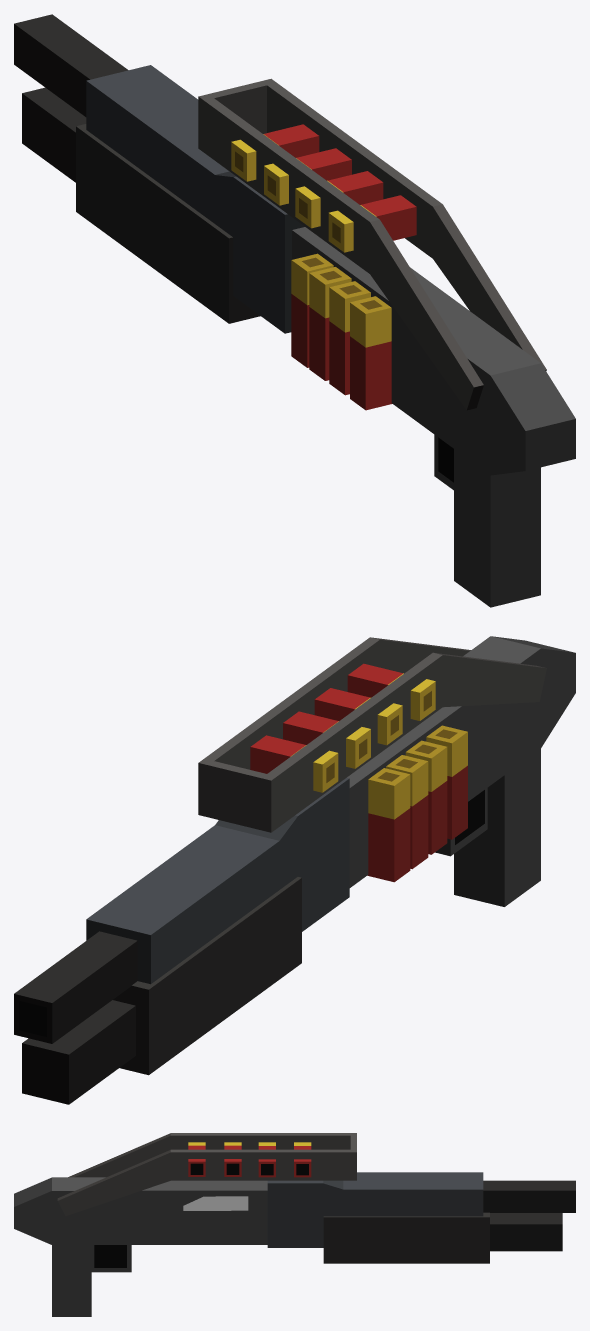
Rendered from Wep_Shotgun.fbx.
3 renders of one model, top to bottom at view 1: azimuth 30°, elevation 25°; view 2: azimuth 150°, elevation 25°; view 3: azimuth 270°, elevation 25°, orthographic. The views are drawn at different scales.
Parts seen in each view (by area): view 1: Wep_Shotgun; view 2: Wep_Shotgun; view 3: Wep_Shotgun.
Part boxes in pixels (x1=…): Wep_Shotgun: x1=14, y1=14, x2=575, y2=607; Wep_Shotgun: x1=14, y1=636, x2=575, y2=1104; Wep_Shotgun: x1=14, y1=1133, x2=575, y2=1316.
Bounding box in the file's own units: 30.74 × 92.43 × 281.
